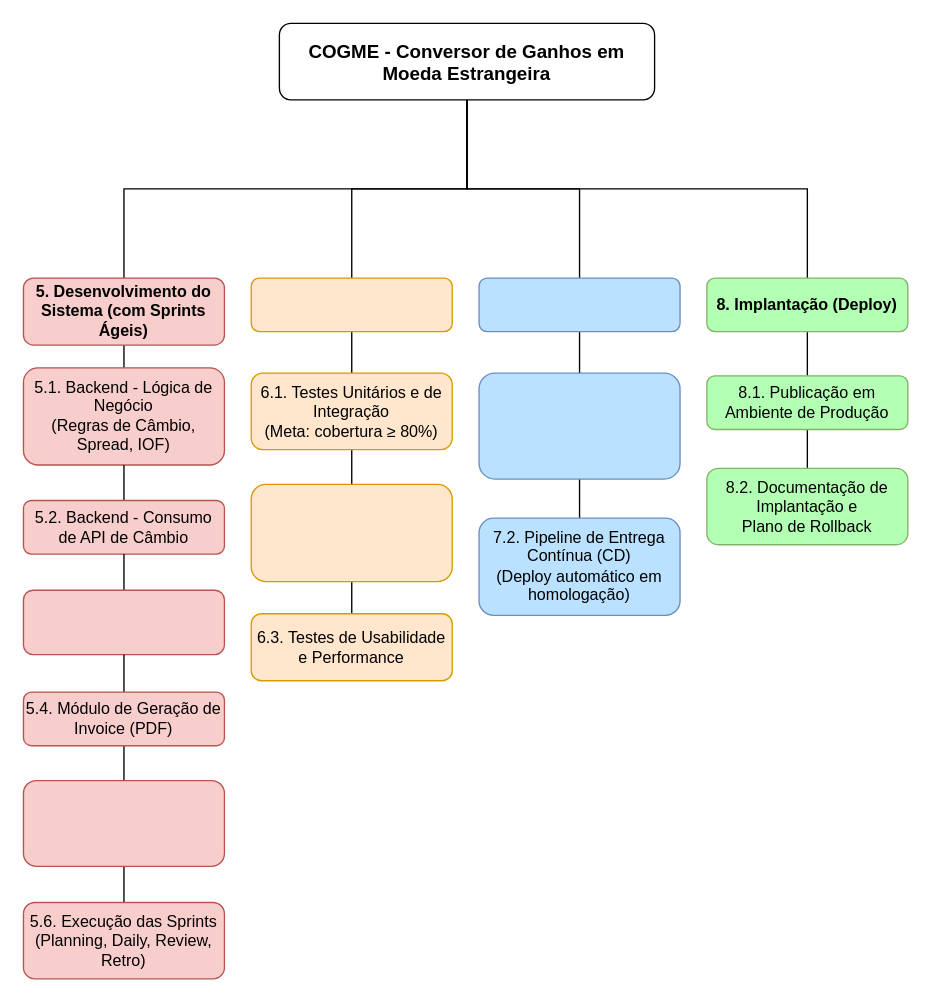
Some shapes in this 931 by 1002 pixel diagram are drawn without their labels. The shapes that lost their labels are listed below. From the top down, each one's centre as x and y in pixels, then its label:
At [351,304]: "6. Garantia da Qualidade e Testes".
At [579,304]: "7. DevOps e CI/CD".
At [579,425]: "7.1. Pipeline de Integração Contínua (CI) (Build e testes automatizados)".
At [351,532]: "6.2. Testes de Aceitação (UAT) (Fluxos críticos - zero defeitos)".
At [123,622]: "5.3. Frontend - Interface e Simulações".
At [123,822]: "5.5. Implementação Assistida por IA (SDD) (Geração e Revisão com LLM)".
